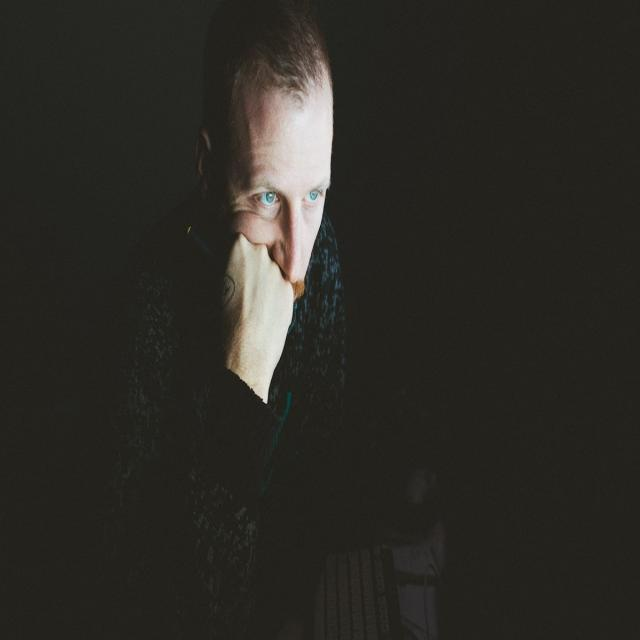No_Goggles: (240, 177, 335, 218)
No_Helmet: (192, 2, 339, 83)
